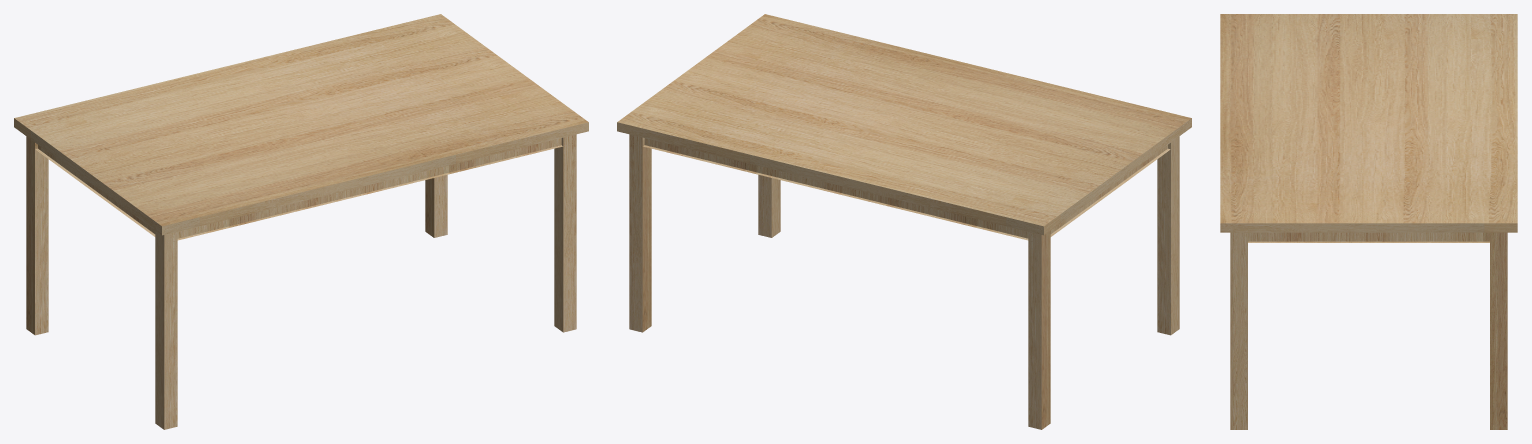
Rendered from table.glb.
3 renders of one model, left to right at view 1: azimuth 30°, elevation 25°; view 2: azimuth 150°, elevation 25°; view 3: azimuth 270°, elevation 25°, orthographic.
Parts seen in each view (by area): view 1: table; view 2: table; view 3: table.
Part boxes in pixels (x1,y1,x2,y2): table: [14, 14, 588, 429]; table: [617, 14, 1191, 429]; table: [1220, 14, 1517, 429].
Size of the model in its own units: 1.8 by 0.842 by 1.08.
1 material, 1 textured.
